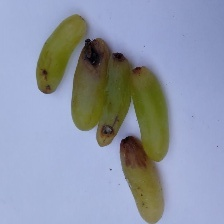grapes: (41, 37, 224, 173)
